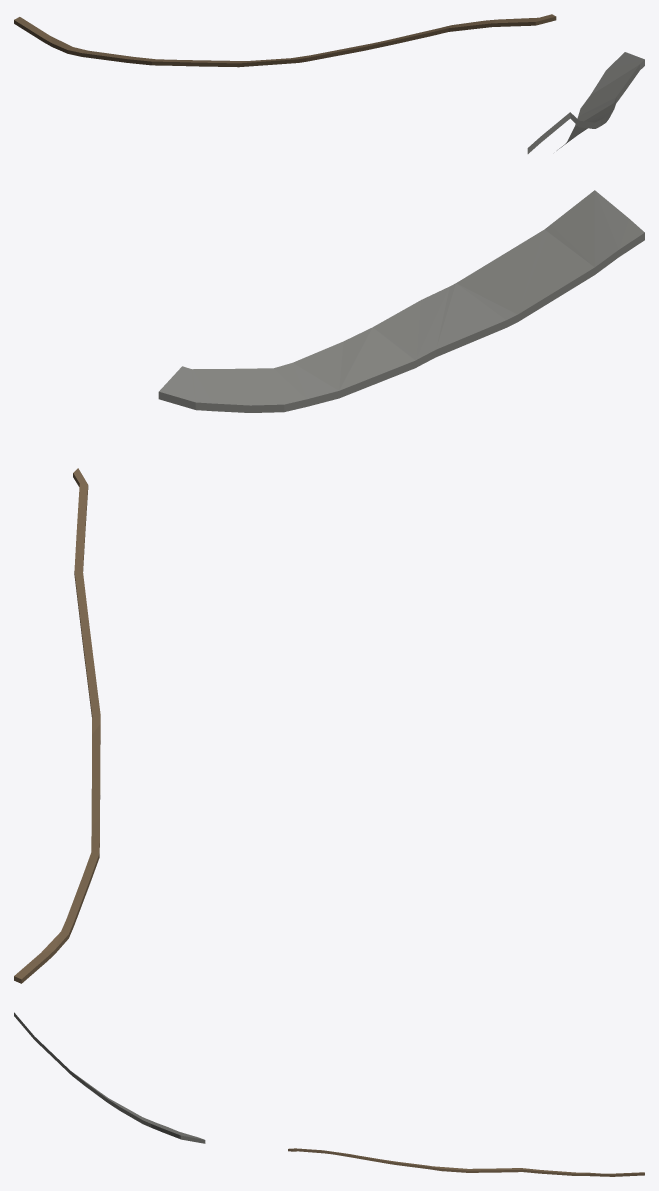
3 views of the same model, one above another, from view 1: azimuth 30°, elevation 25°; view 2: azimuth 150°, elevation 25°; view 3: azimuth 270°, elevation 25° (orthographic). The views are drawn at different scales.
Bounding box in the file's own units: 49.34 × 52.74 × 175.
